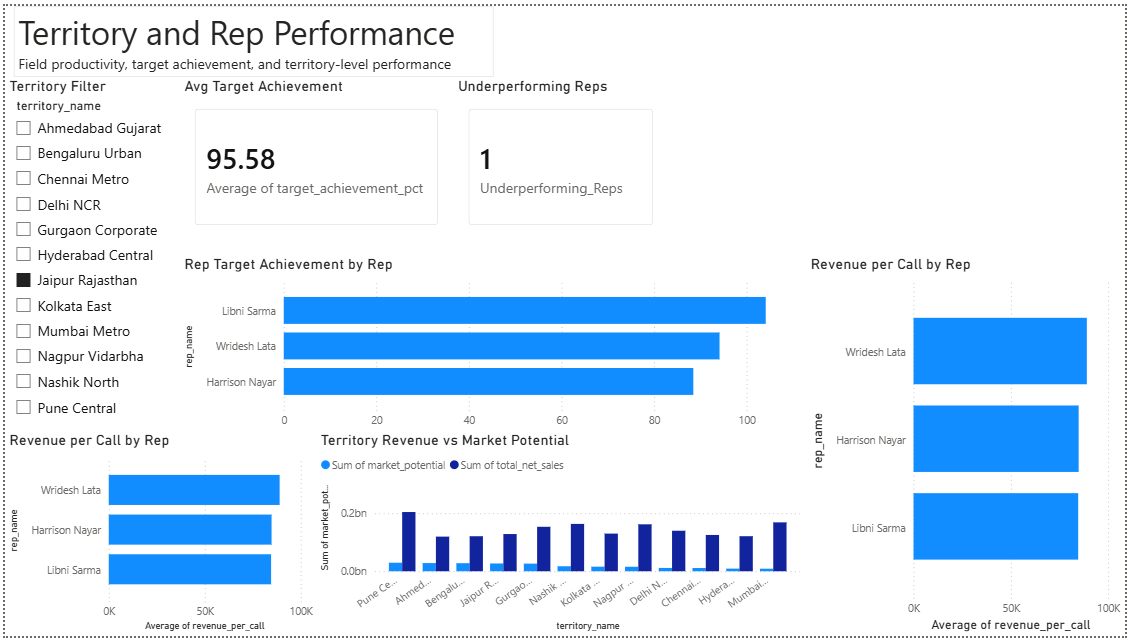

The page's visual inventory and layout, read from the dashboard file:
{"tool":"powerbi","page":{"name":"Territory and Rep Performance","canvas":[1280,720],"ordinal":1},"visuals":[{"type":"textbox","box":[10,0,548.6,81.4],"z":0},{"type":"slicer","title":"Territory Filter","fields":{"Values":["public vw_rep_performance.territory_name"]},"box":[0,81.4,200,404.3],"z":1000},{"type":"cardVisual","title":"Avg Target Achievement","fields":{"Data":["Avg(public vw_rep_performance.target_achievement_pct)"]},"box":[200,81.4,312.9,187.1],"z":2000},{"type":"cardVisual","title":"Underperforming Reps","fields":{"Data":["public vw_campaign_effectiveness.Underperforming_Reps"]},"box":[512.9,81.4,245.7,187.1],"z":3000},{"type":"clusteredBarChart","title":"Rep Target Achievement by Rep","fields":{"Category":["public vw_rep_performance.rep_name"],"Y":["Avg(public vw_rep_performance.target_achievement_pct)"]},"box":[200,284.3,715.7,217.1],"z":3001},{"type":"clusteredBarChart","title":"Revenue per Call by Rep","fields":{"Category":["public vw_rep_performance.rep_name"],"Y":["Avg(public vw_rep_performance.revenue_per_call)"]},"box":[915.7,284.3,364.3,435.7],"z":3002},{"type":"clusteredBarChart","title":"Revenue per Call by Rep","fields":{"Category":["public vw_rep_performance.rep_name"],"Y":["Avg(public vw_rep_performance.revenue_per_call)"]},"box":[0,485.7,357.1,234.3],"z":3003},{"type":"clusteredColumnChart","title":"Territory Revenue vs Market Potential","fields":{"Category":["public vw_territory_revenue.territory_name"],"Y":["Sum(public vw_territory_revenue.market_potential)","Sum(public vw_territory_revenue.total_net_sales)"]},"box":[355.7,485.7,558.6,234.3],"z":3004}]}

Visuals, with their boxes in screenshot pixels (x1, y1, x2, y2), scaled from the page's 1280x720 canvas onto the 1128x640 screenshot:
textbox: detection(9, 0, 492, 72)
"Territory Filter" slicer: detection(0, 72, 176, 432)
"Avg Target Achievement" cardVisual: detection(176, 72, 452, 239)
"Underperforming Reps" cardVisual: detection(452, 72, 669, 239)
"Rep Target Achievement by Rep" clusteredBarChart: detection(176, 253, 807, 446)
"Revenue per Call by Rep" clusteredBarChart: detection(807, 253, 1127, 639)
"Revenue per Call by Rep" clusteredBarChart: detection(0, 432, 315, 639)
"Territory Revenue vs Market Potential" clusteredColumnChart: detection(313, 432, 806, 639)
